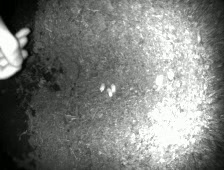corn: (154, 72, 165, 87), (105, 86, 115, 98), (97, 81, 106, 93), (109, 82, 117, 94)
